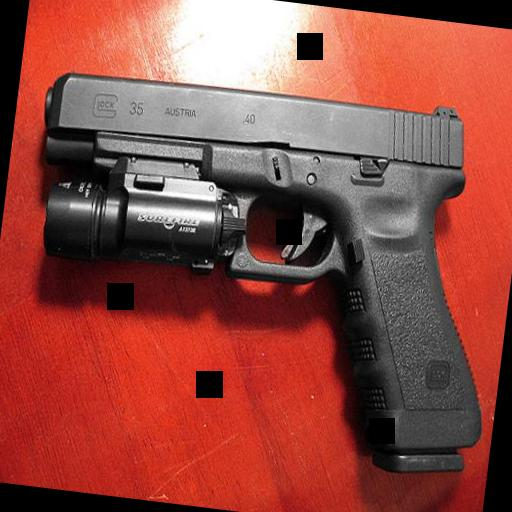Handgun: (3, 53, 512, 478)
